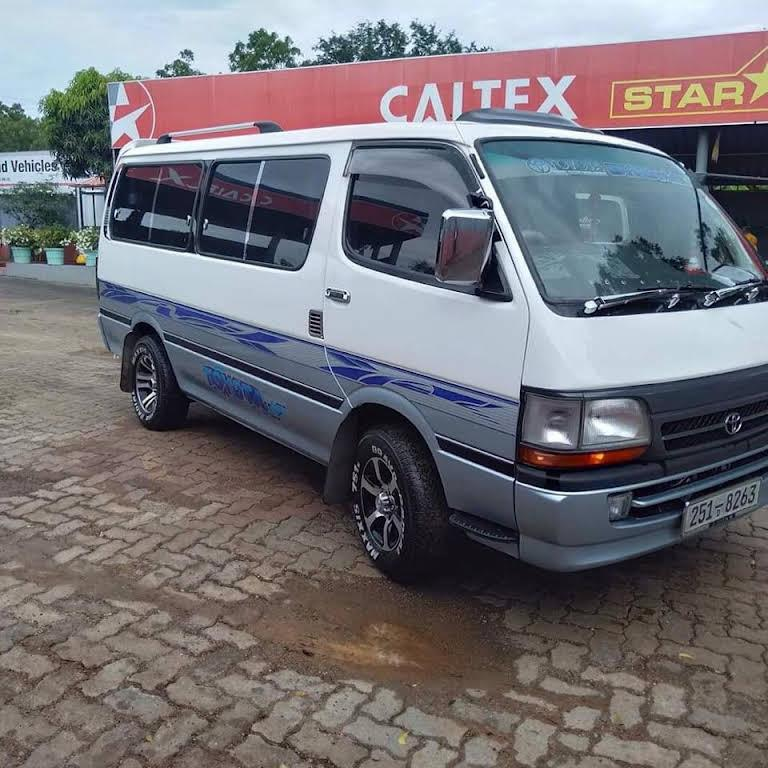van: (94, 107, 768, 583)
